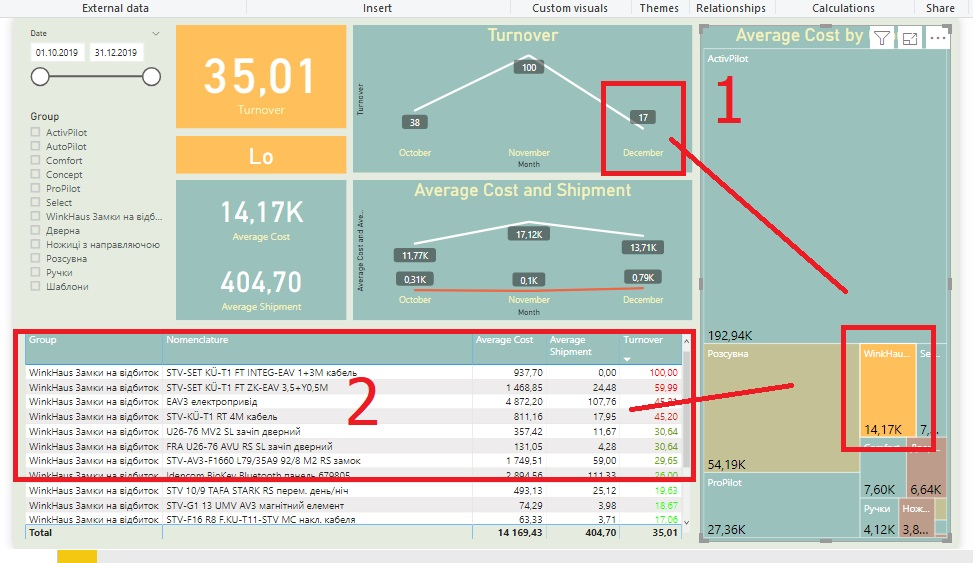

This screenshot's page, from the dashboard's own definition file:
{"tool":"powerbi","page":{"name":"Inventory Turnover","canvas":[1280,720],"ordinal":0},"visuals":[{"type":"card","title":"Total turnover (days)","fields":{"Values":["RAW_Data.Turnover"]},"box":[219.7,9.5,230.7,140],"z":0},{"type":"lineChart","title":"Turnover","fields":{"Y":["RAW_Data.Turnover"],"Category":["RAW_Data.Date.Variation.Date Hierarchy.Month","RAW_Data.Date.Variation.Date Hierarchy.Day"]},"box":[460,10,460,200],"z":1000},{"type":"tableEx","fields":{"Values":["RAW_Data.Group","RAW_Data.Nomenclature","RAW_Data.Average Daily Cost2","RAW_Data.Average_Decrease","RAW_Data.Turnover"]},"box":[9.5,420.3,911.8,290.8],"z":2000},{"type":"lineChart","title":"Average Cost and Shipment","fields":{"Category":["RAW_Data.Date.Variation.Date Hierarchy.Month","RAW_Data.Date.Variation.Date Hierarchy.Day"],"Y":["RAW_Data.Average Daily Cost2","RAW_Data.Average Shipment"]},"box":[460,220,460,190],"z":3000},{"type":"treemap","fields":{"Group":["RAW_Data.Group"],"Values":["RAW_Data.Average Daily Cost2"]},"box":[930,10,340,700],"z":4000},{"type":"slicer","fields":{"Values":["RAW_Data.Date"]},"box":[10,10,200,100],"z":6001},{"type":"slicer","fields":{"Values":["RAW_Data.Group"]},"box":[10,120,200,290],"z":6002},{"type":"card","fields":{"Values":["RAW_Data.Average Cost"]},"box":[219.7,219.7,230.7,94.8],"z":6003},{"type":"card","fields":{"Values":["RAW_Data.Average Shipment"]},"box":[219.7,314.5,230.7,94.8],"z":6004},{"type":"card","fields":{"Values":["RAW_Data.Turnover Ranges"]},"box":[219.7,159.6,230.7,50.6],"z":6005}]}

Visuals, with their boxes on the page's 1280x720 design canvas (x1, y1, x2, y2). These are canvas units, not pixel positions in the 973x563 screenshot, which may show the page scaled, cropped or inside an application window:
"Total turnover (days)" card: 220, 10, 450, 150
"Turnover" lineChart: 460, 10, 920, 210
tableEx - RAW_Data.Group x RAW_Data.Nomenclature: 10, 420, 921, 711
"Average Cost and Shipment" lineChart: 460, 220, 920, 410
treemap - RAW_Data.Group x RAW_Data.Average Daily Cost2: 930, 10, 1270, 710
slicer - RAW_Data.Date: 10, 10, 210, 110
slicer - RAW_Data.Group: 10, 120, 210, 410
card - RAW_Data.Average Cost: 220, 220, 450, 314
card - RAW_Data.Average Shipment: 220, 314, 450, 409
card - RAW_Data.Turnover Ranges: 220, 160, 450, 210
